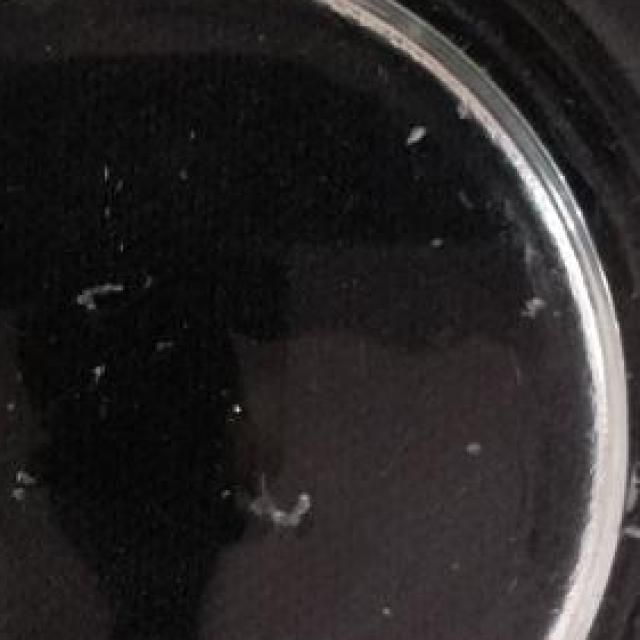Microplastic: (226, 459, 321, 543)
